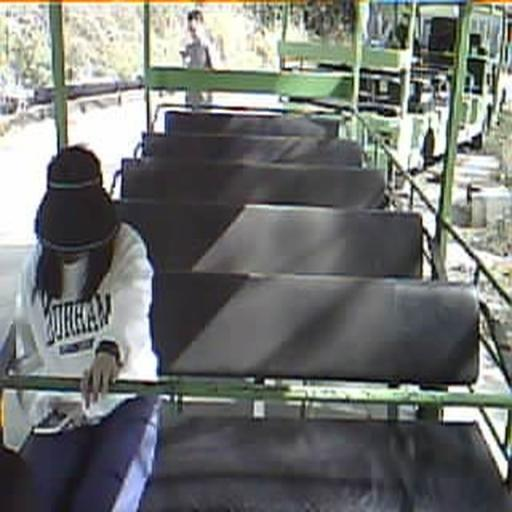persona: (4, 144, 161, 510)
